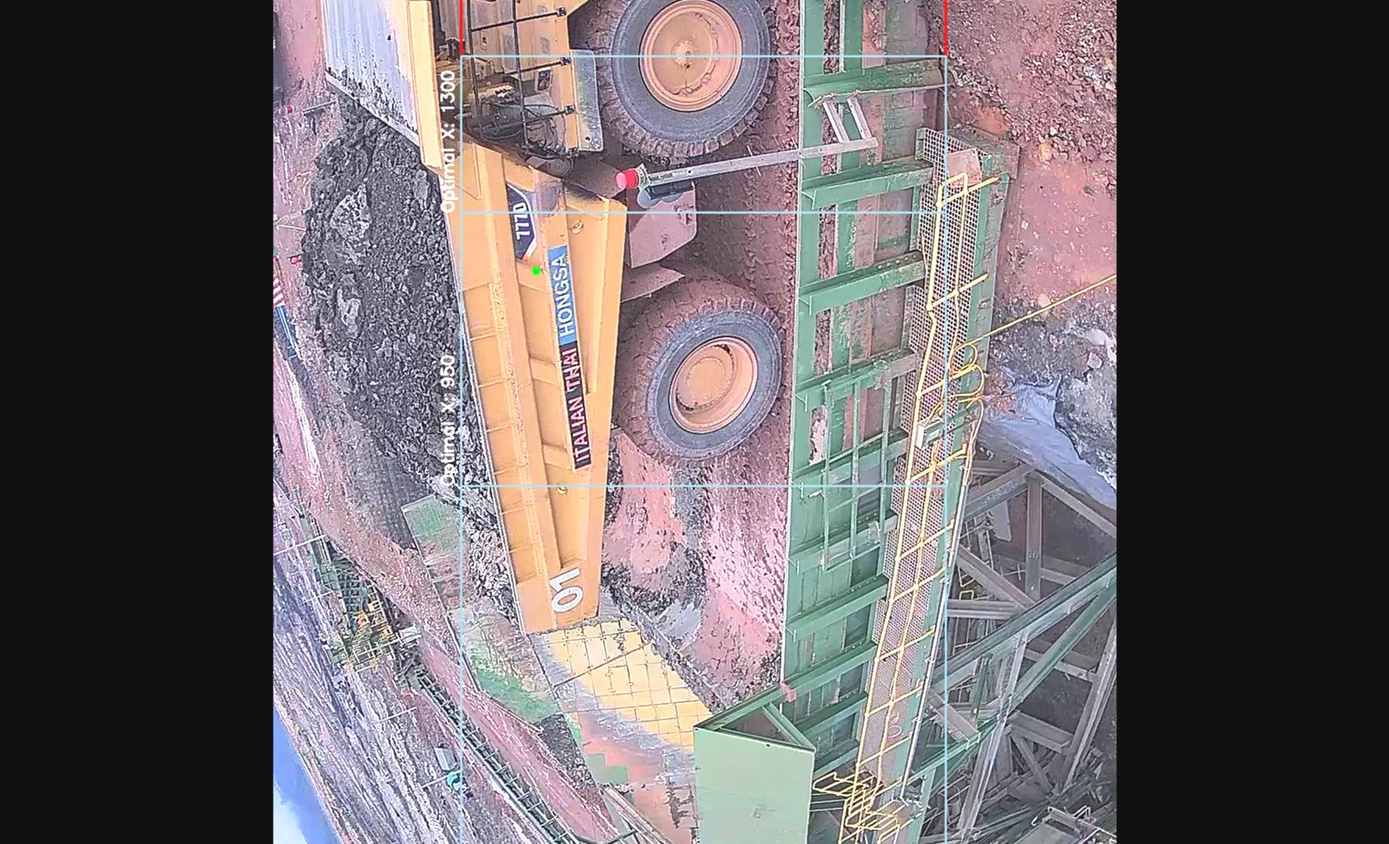company: (544, 233, 595, 480)
full_load: (297, 142, 485, 515)
mining_truck: (285, 0, 769, 642)
tail_number: (542, 560, 594, 620)
truck_size: (501, 189, 535, 268)
